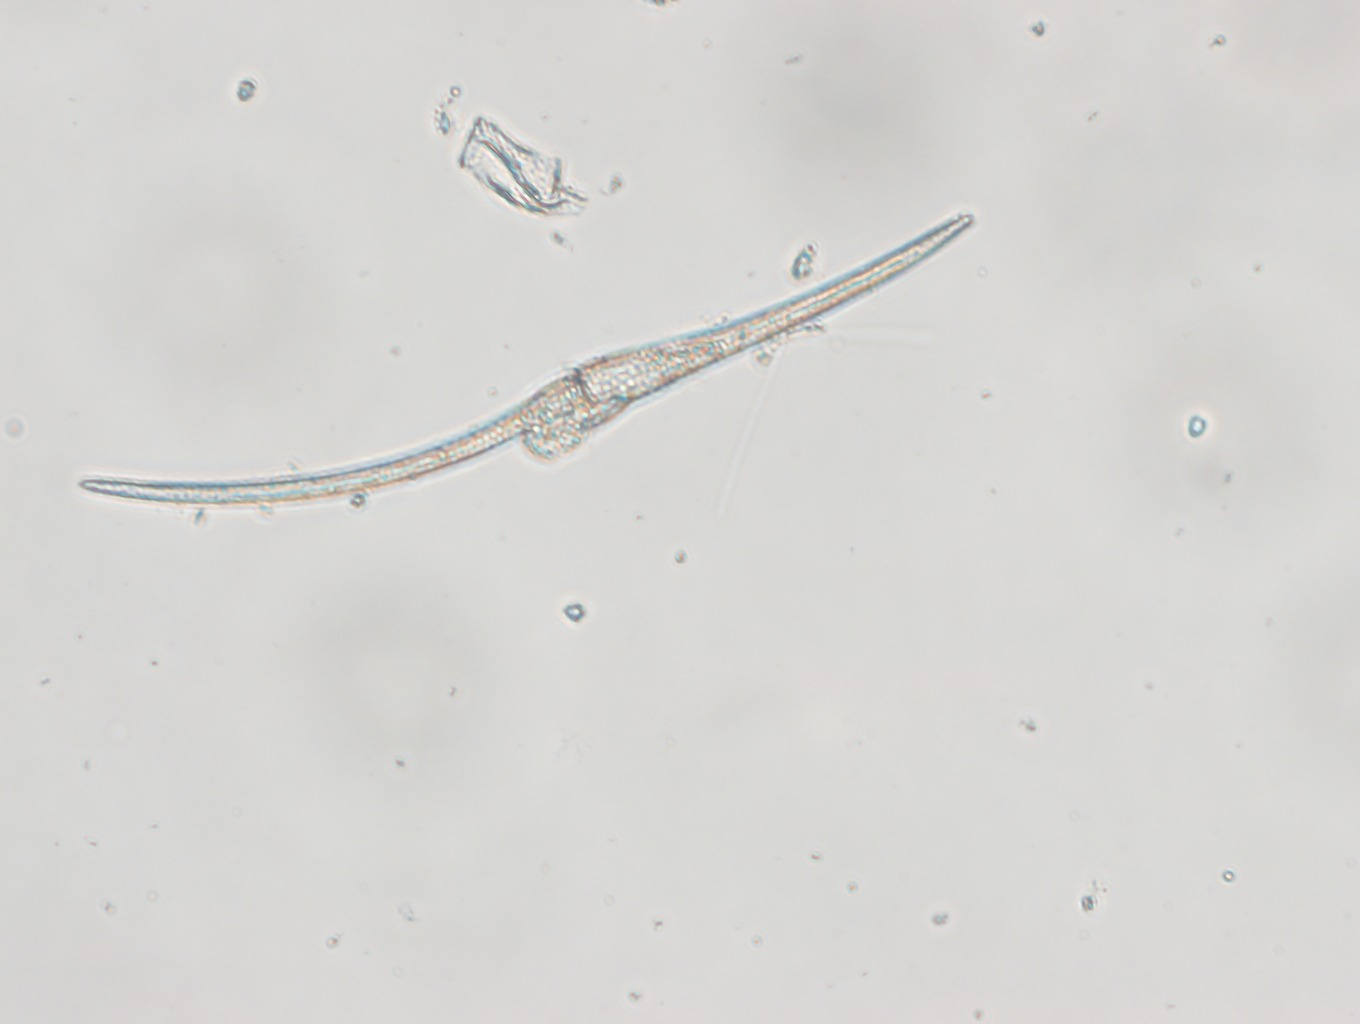ceratium fusus: (78, 204, 979, 510)
